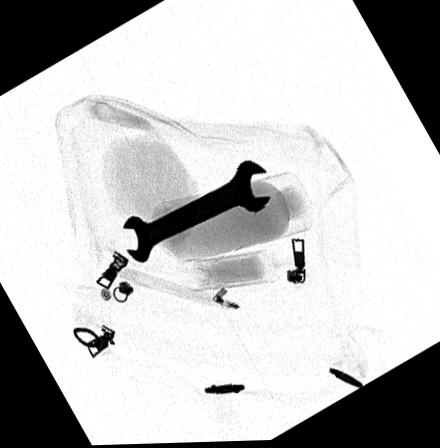Wrench: (121, 158, 272, 262)
